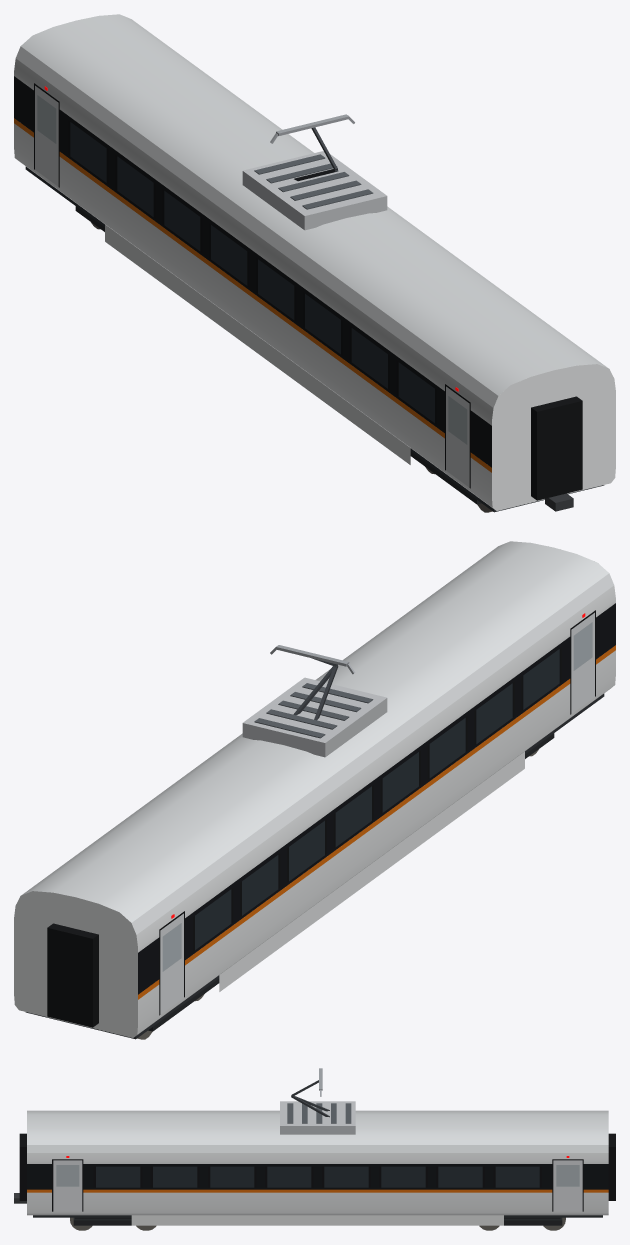
Rendered from emu3000-middle.glb.
3 views of the same model, one above another, from view 1: azimuth 30°, elevation 25°; view 2: azimuth 150°, elevation 25°; view 3: azimuth 270°, elevation 25° (orthographic). The views are drawn at different scales.
Parts seen in each view (by area): view 1: EMU3000_Middle; view 2: EMU3000_Middle; view 3: EMU3000_Middle.
Boxes of the visible parts, x1,y1,x2,y2 form: EMU3000_Middle: [14, 14, 615, 512]; EMU3000_Middle: [14, 541, 615, 1039]; EMU3000_Middle: [14, 1068, 615, 1230].
Size of the model in its own units: 3.08 by 5.48 by 20.7.
